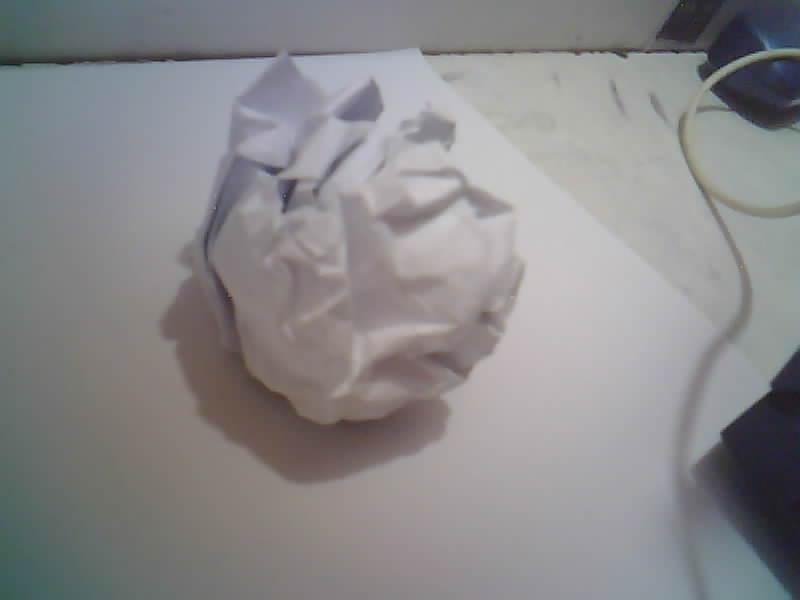biodegradable: (196, 54, 524, 423)
